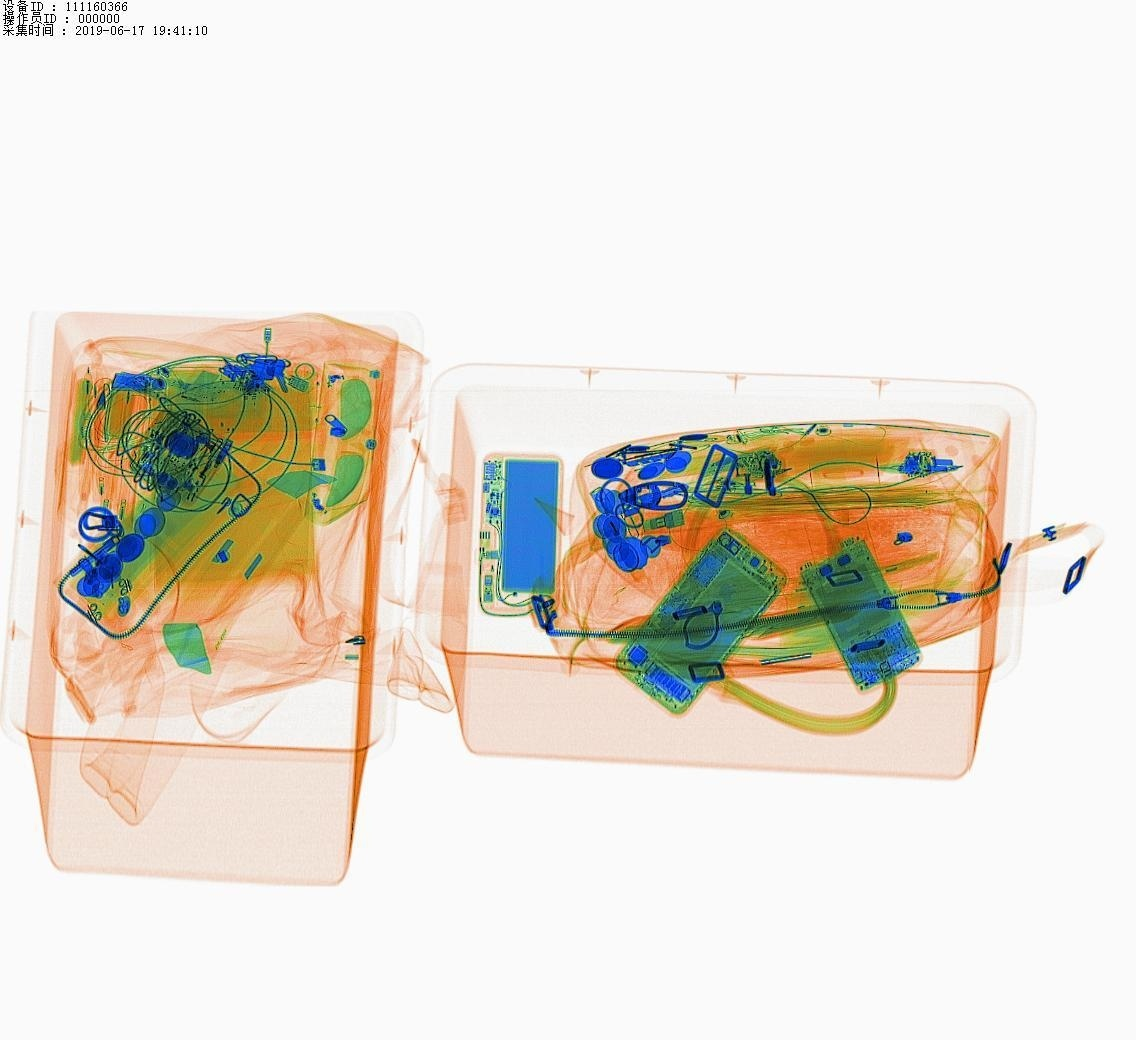NonmetallicFire: (589, 473, 670, 631)
